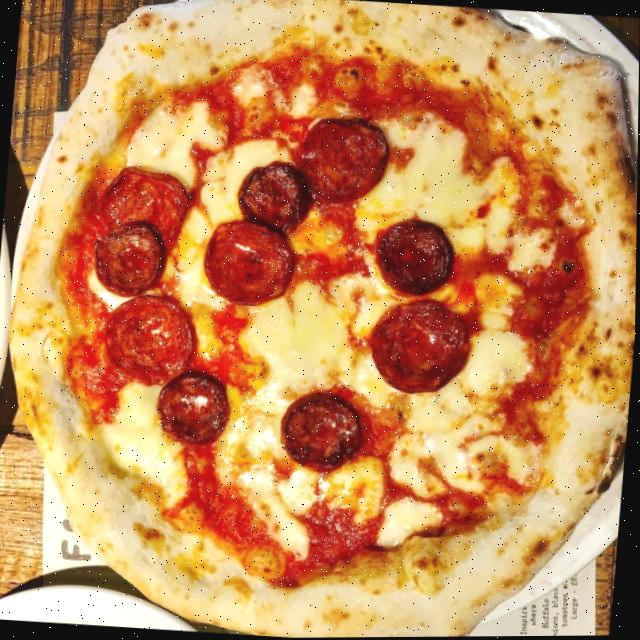pepperoni: (363, 291, 477, 404), (94, 289, 202, 391), (295, 108, 390, 211), (197, 218, 298, 311), (367, 205, 456, 307), (99, 159, 190, 250), (273, 390, 371, 474), (153, 367, 235, 448), (88, 219, 168, 301), (236, 155, 314, 237)
pizza: (0, 0, 640, 640)
